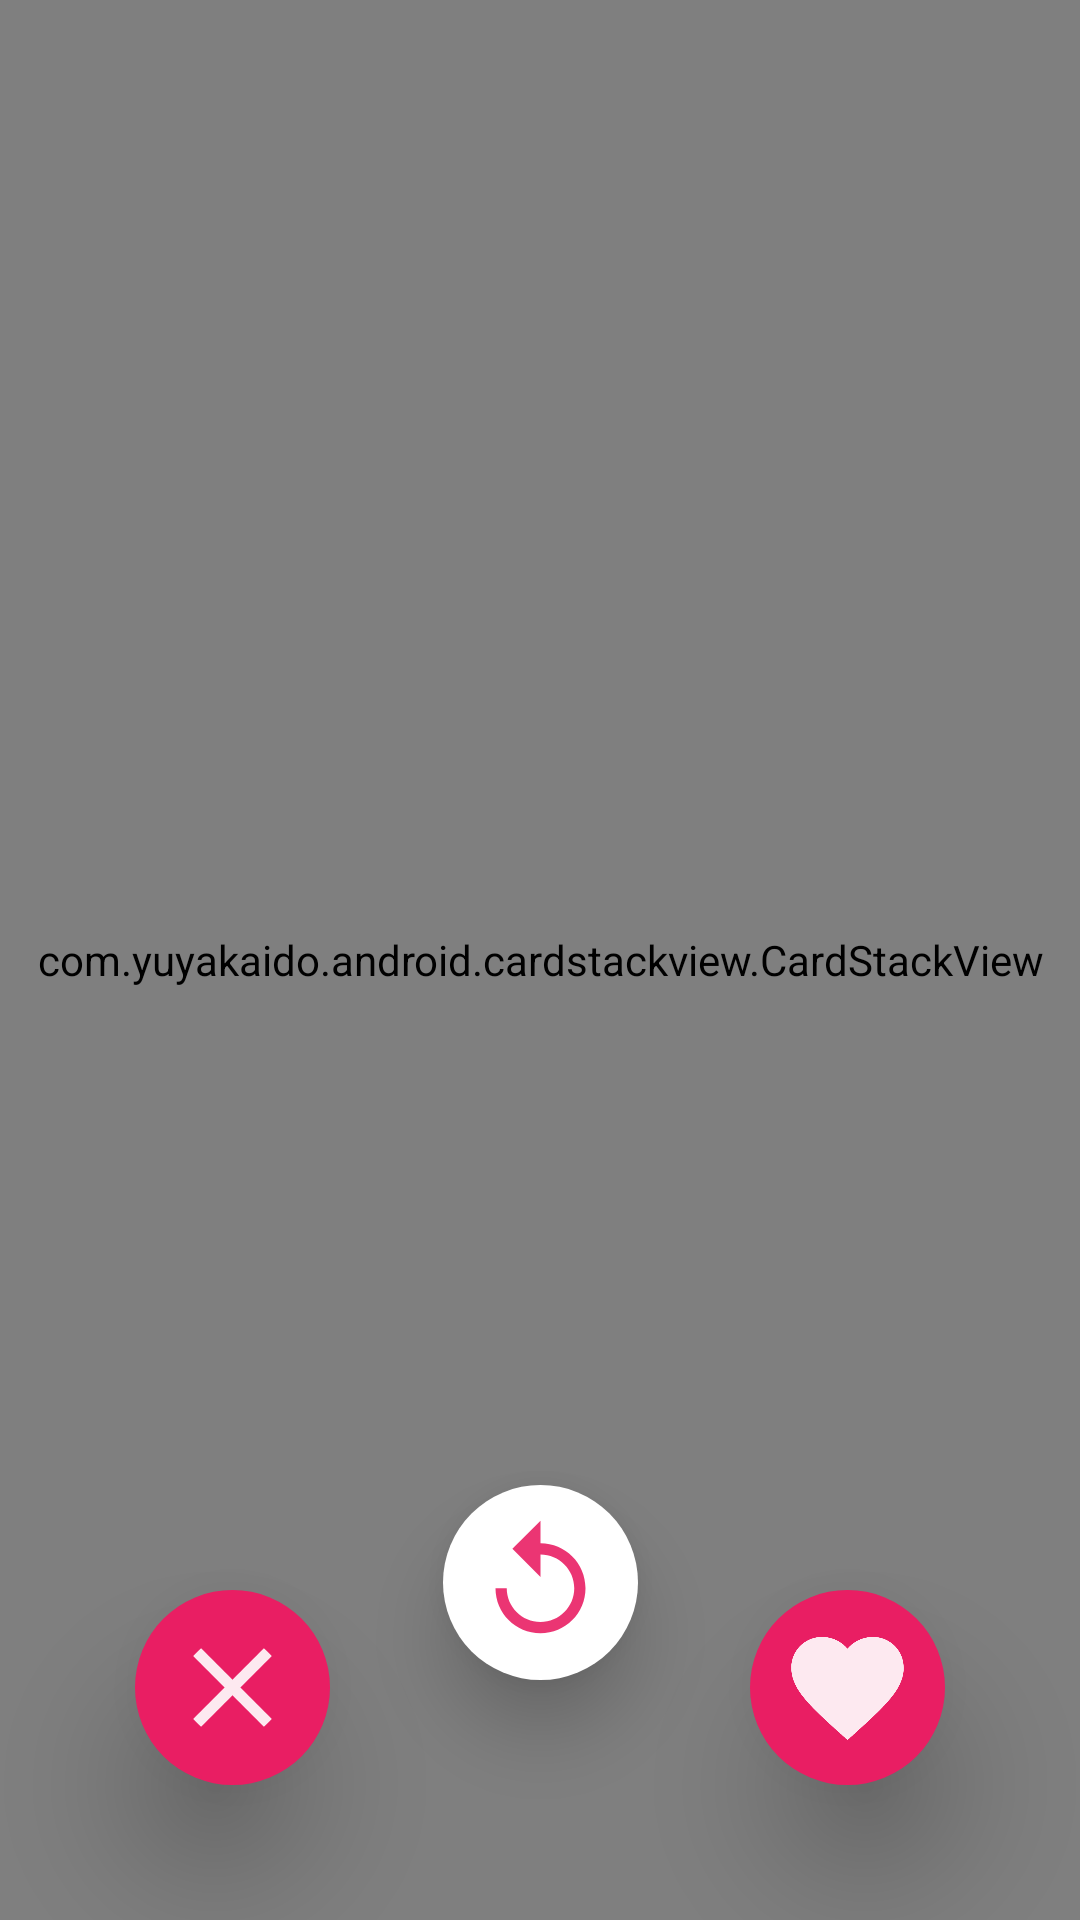

Icons on this 1080w x 1920h Android screen, each with the point to tap as [x,y]:
close: [232,1687]
favorite: [847,1687]
replay: [540,1582]
